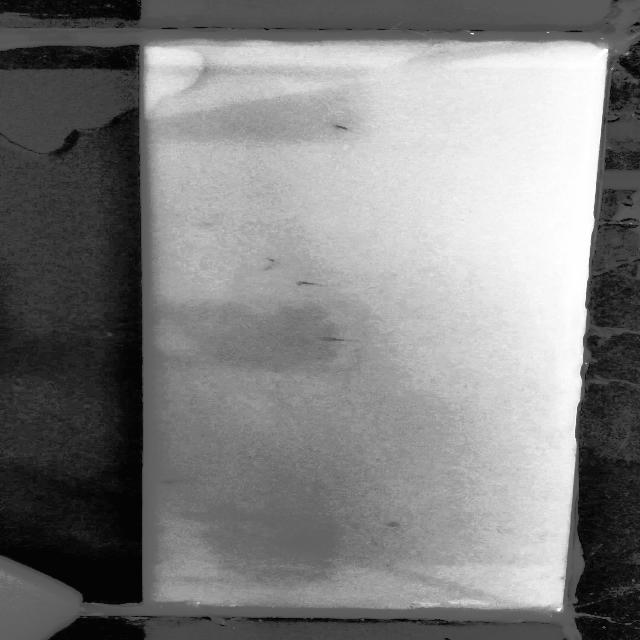shrimp: (316, 332, 366, 344), (296, 280, 334, 292), (257, 254, 285, 268), (162, 478, 188, 488), (331, 123, 354, 133), (380, 517, 400, 528)
